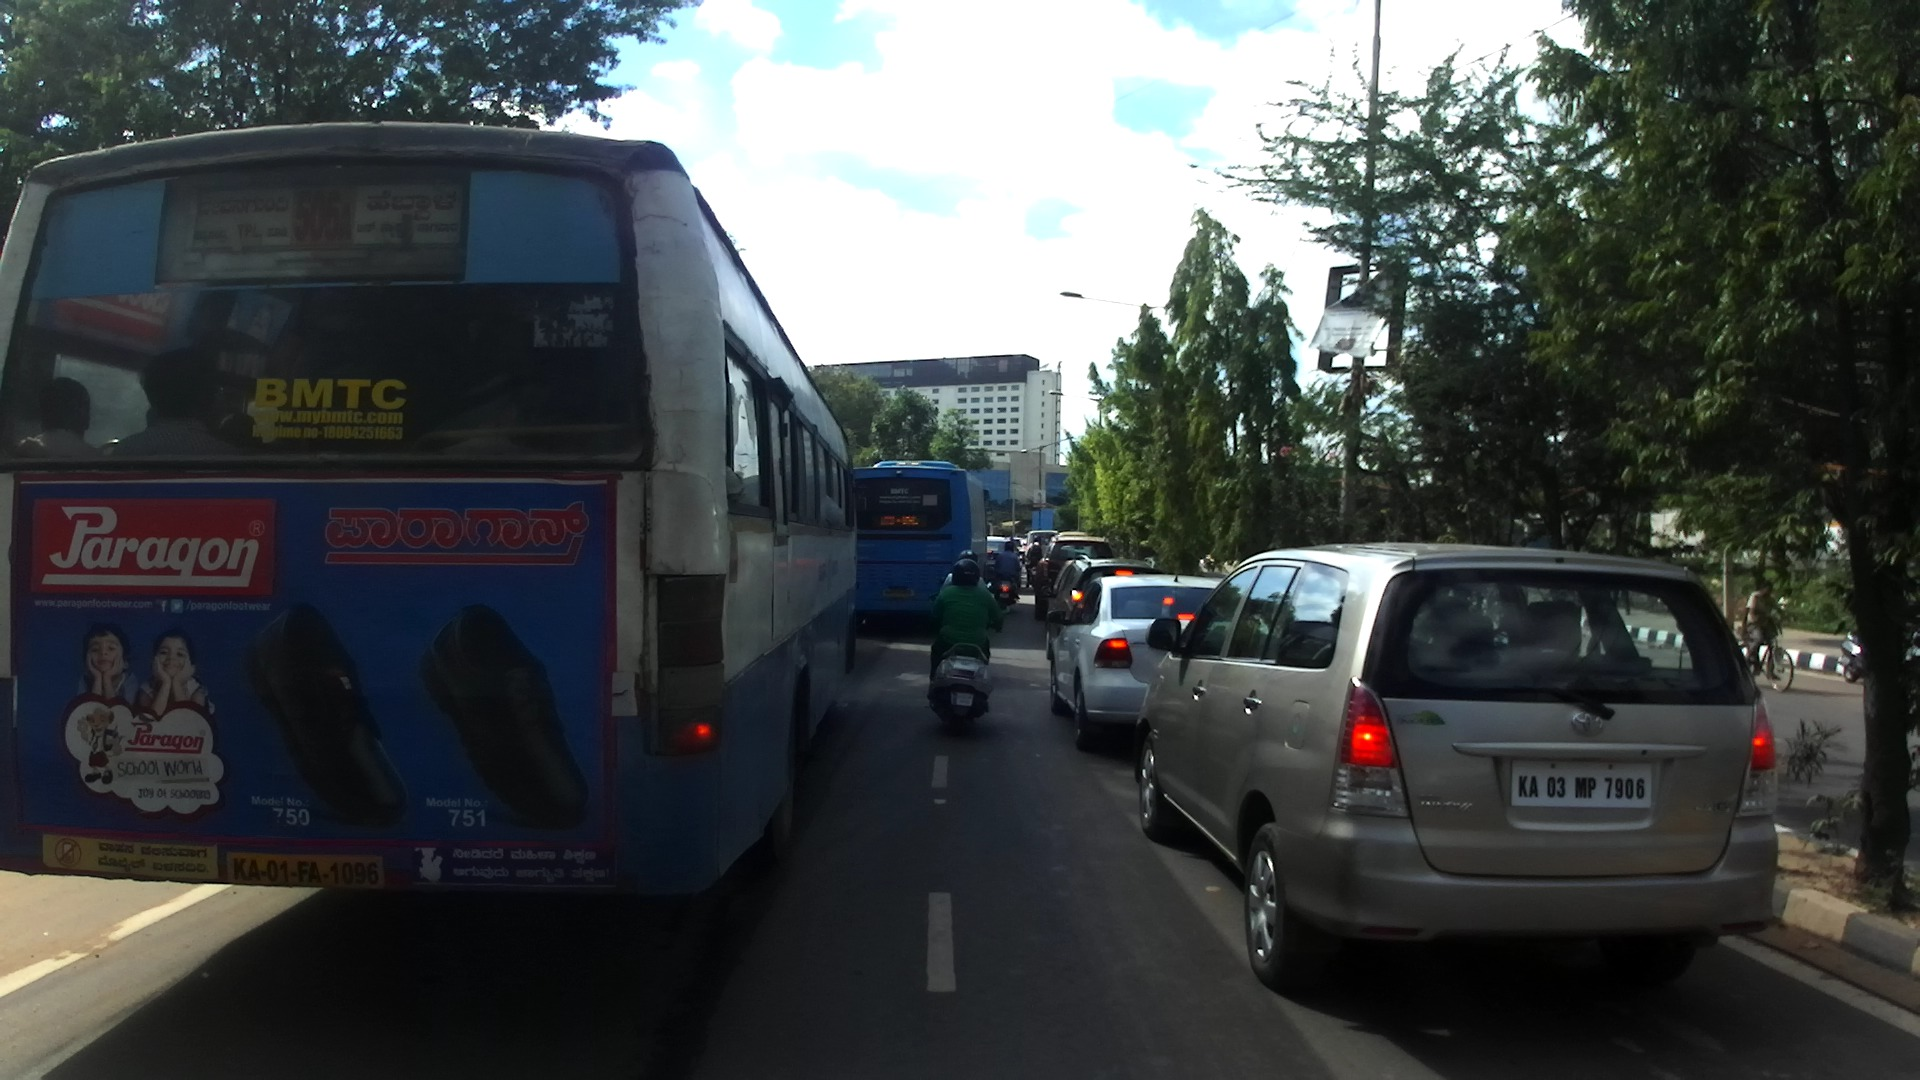autorickshaw: (1056, 531, 1089, 538)
bicycle: (1737, 623, 1796, 694)
bus: (1, 120, 861, 895), (850, 458, 991, 634)
car: (1135, 540, 1781, 989), (1046, 573, 1230, 751), (1039, 553, 1166, 661), (1033, 535, 1115, 621), (985, 534, 1022, 581), (1026, 529, 1060, 563), (1007, 536, 1026, 557)
motorcycle: (923, 615, 1003, 737), (1838, 628, 1869, 685), (992, 574, 1019, 618), (1021, 551, 1039, 585)
rider: (926, 558, 994, 682), (1742, 579, 1779, 678), (938, 550, 989, 599), (993, 542, 1022, 597)
